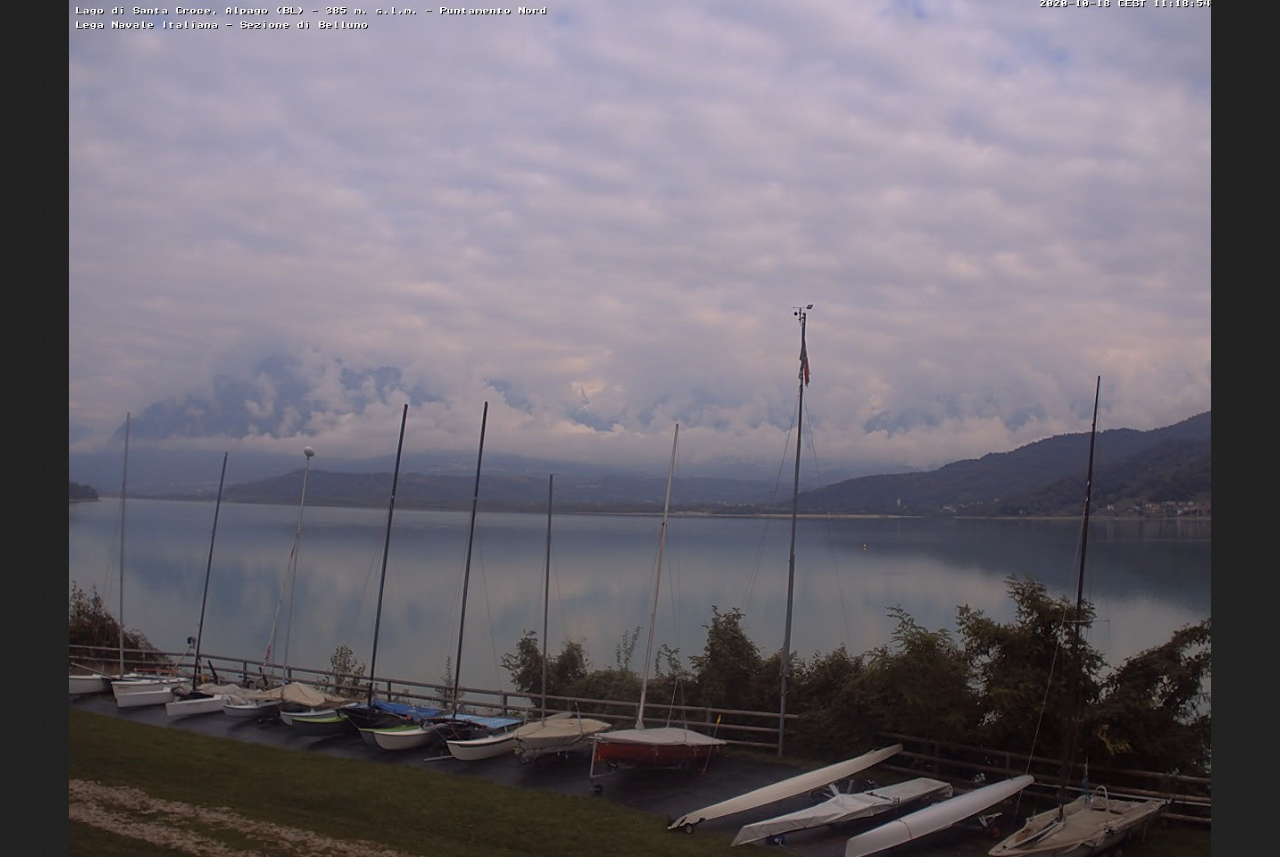no: (793, 312, 816, 386)
